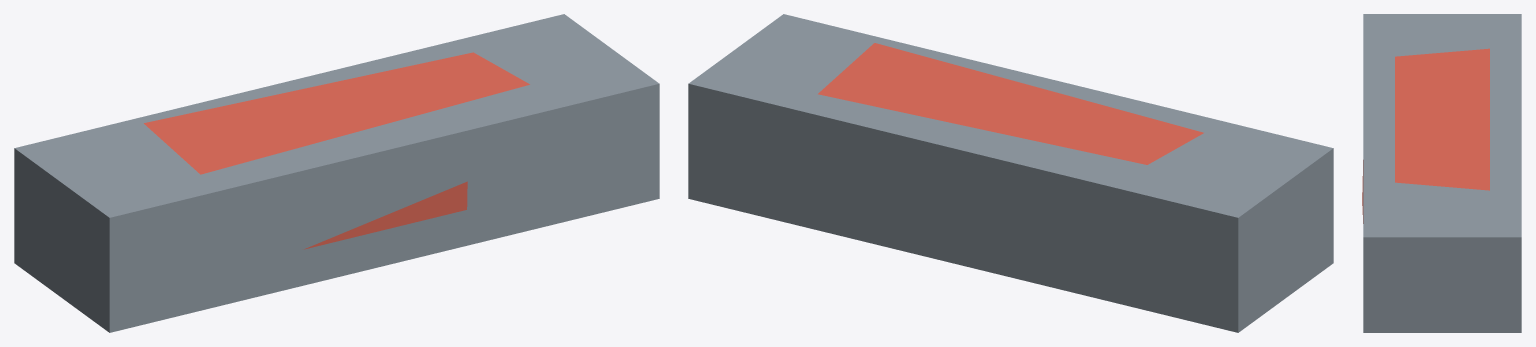
File: SU_SvyatogorCruiser_LOD1.glb
3 views of the same model, side by side, from view 1: azimuth 30°, elevation 25°; view 2: azimuth 150°, elevation 25°; view 3: azimuth 270°, elevation 25° (orthographic). The views are drawn at different scales.
Parts seen in each view (by area): view 1: EntranceGate; view 2: EntranceGate; view 3: EntranceGate.
Boxes of the visible parts, box(x1,y1,x2,y2) form: EntranceGate: box(14, 14, 659, 332); EntranceGate: box(688, 14, 1333, 332); EntranceGate: box(1362, 14, 1521, 332).
Bounding box in the file's own units: 2000 × 442 × 603.
